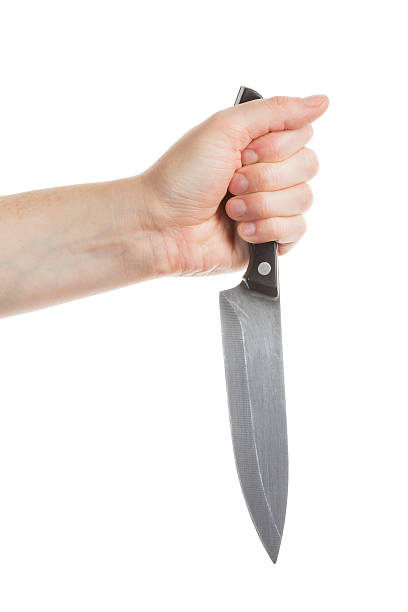knife: (218, 84, 290, 564)
